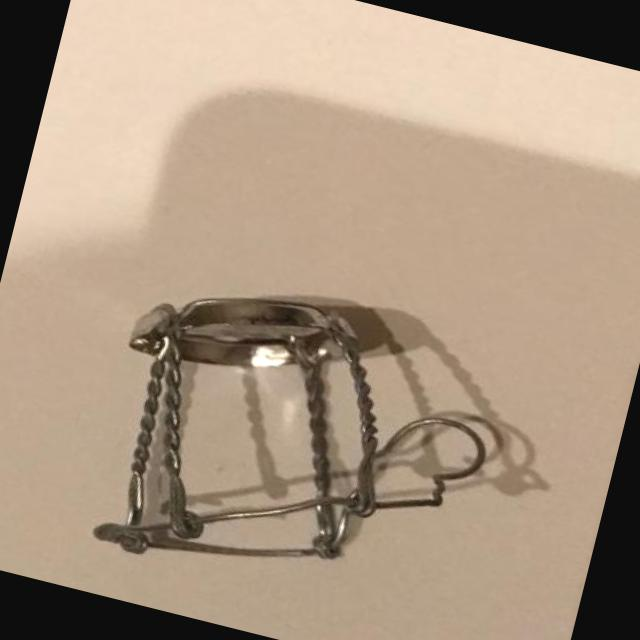metal: (94, 299, 484, 559)
